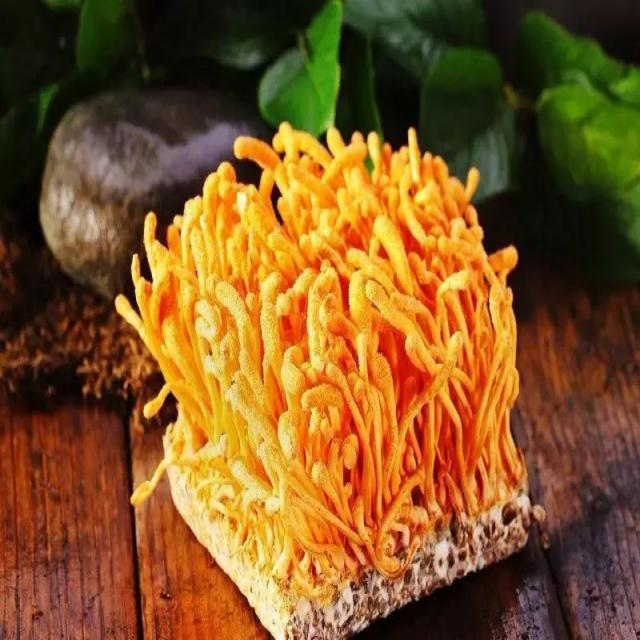Cordyceps militaris: (116, 124, 532, 638)
